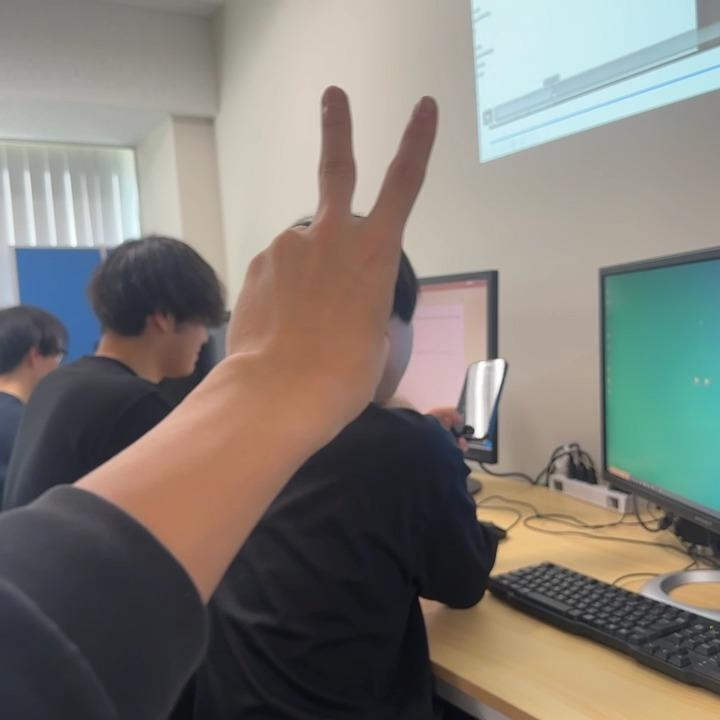without_gloves: (218, 44, 538, 438)
